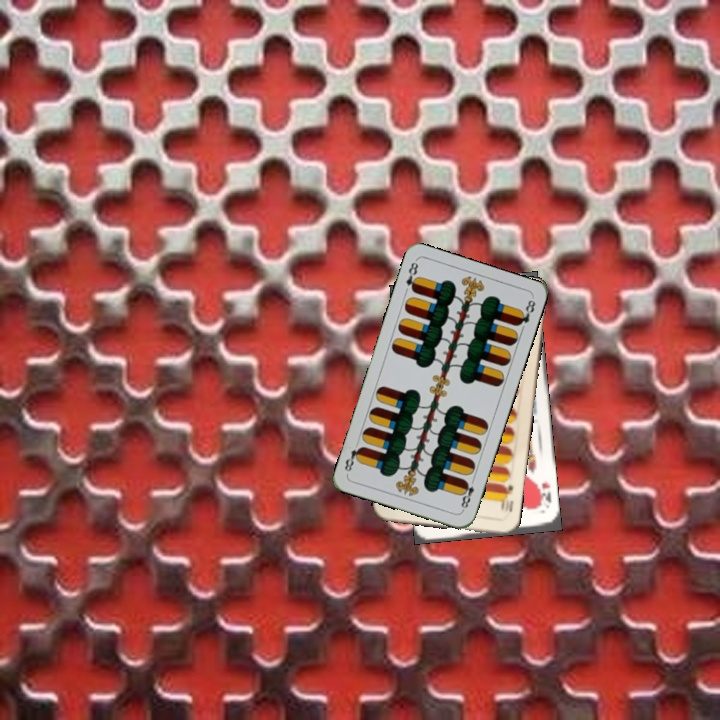E10: (497, 480, 516, 514)
E8: (457, 474, 478, 514), (402, 257, 422, 294)
HK: (533, 478, 554, 511)
